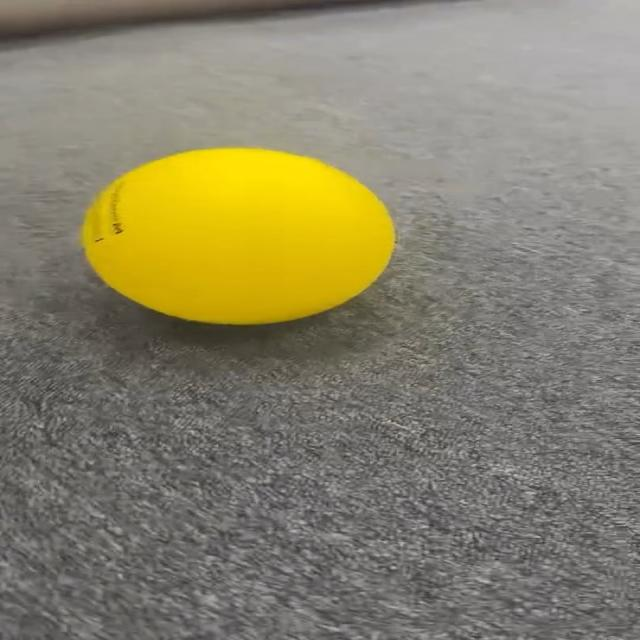Fuels: (83, 149, 394, 321)
